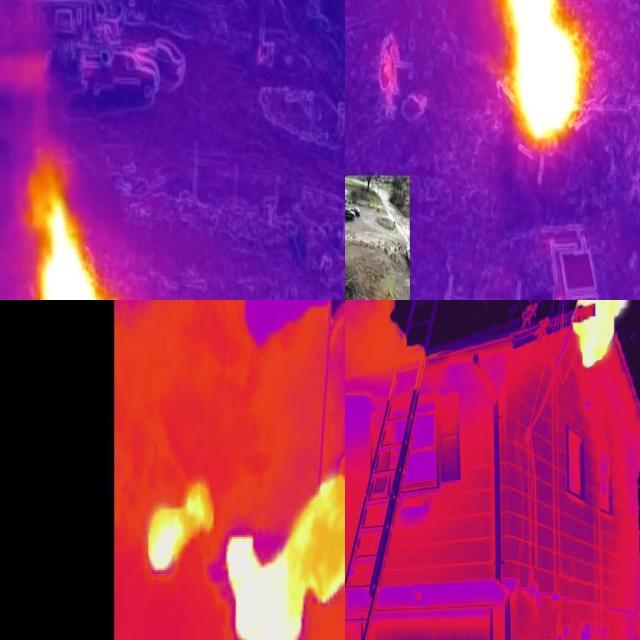fire: (135, 472, 349, 640), (493, 1, 589, 148), (33, 158, 126, 301), (565, 301, 640, 372)
